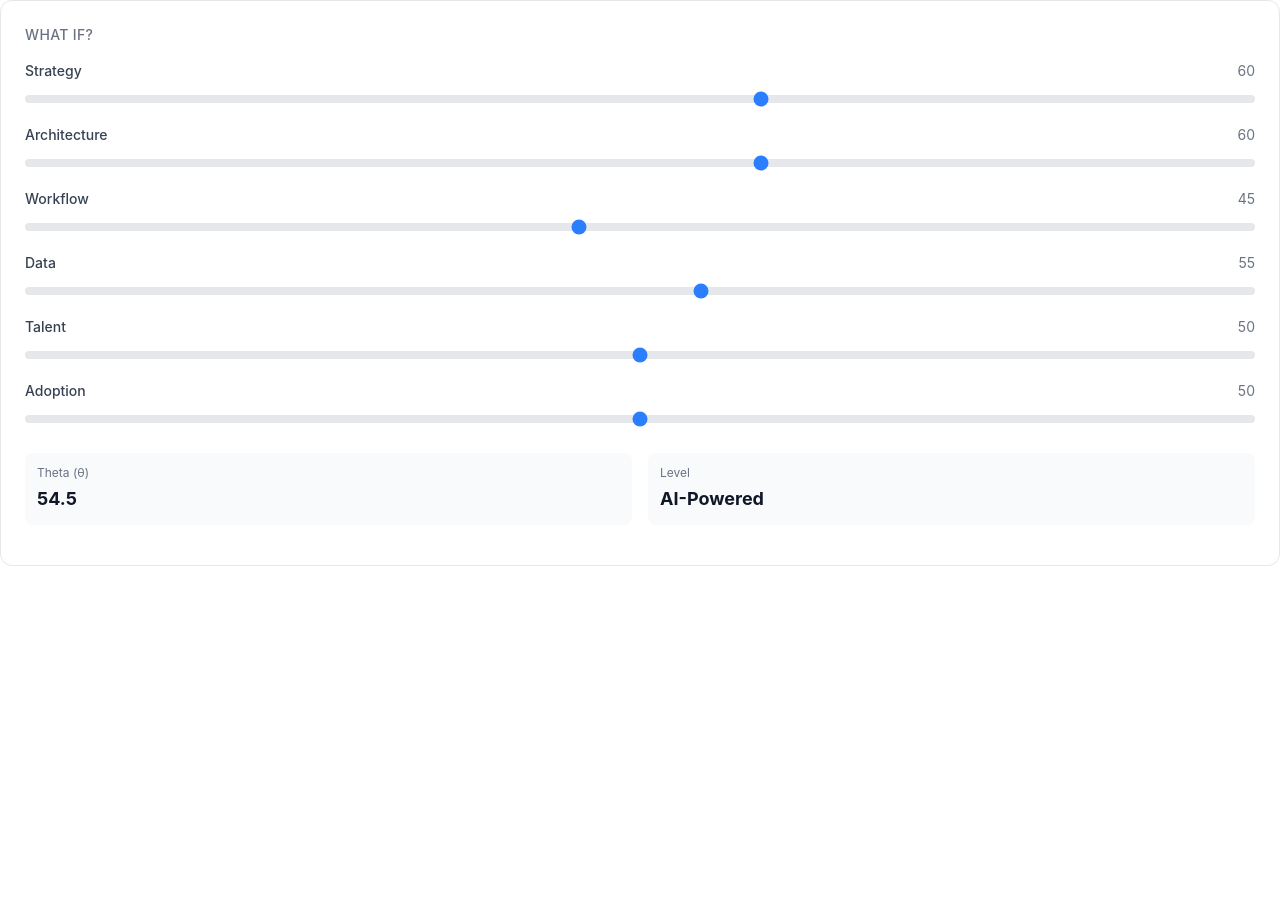
Test: WhatIfPanel › shows gating alert when workflow crosses above 50
Set the slider labelled "Workflow" to "55": (701, 227) [25,223,1255,231]
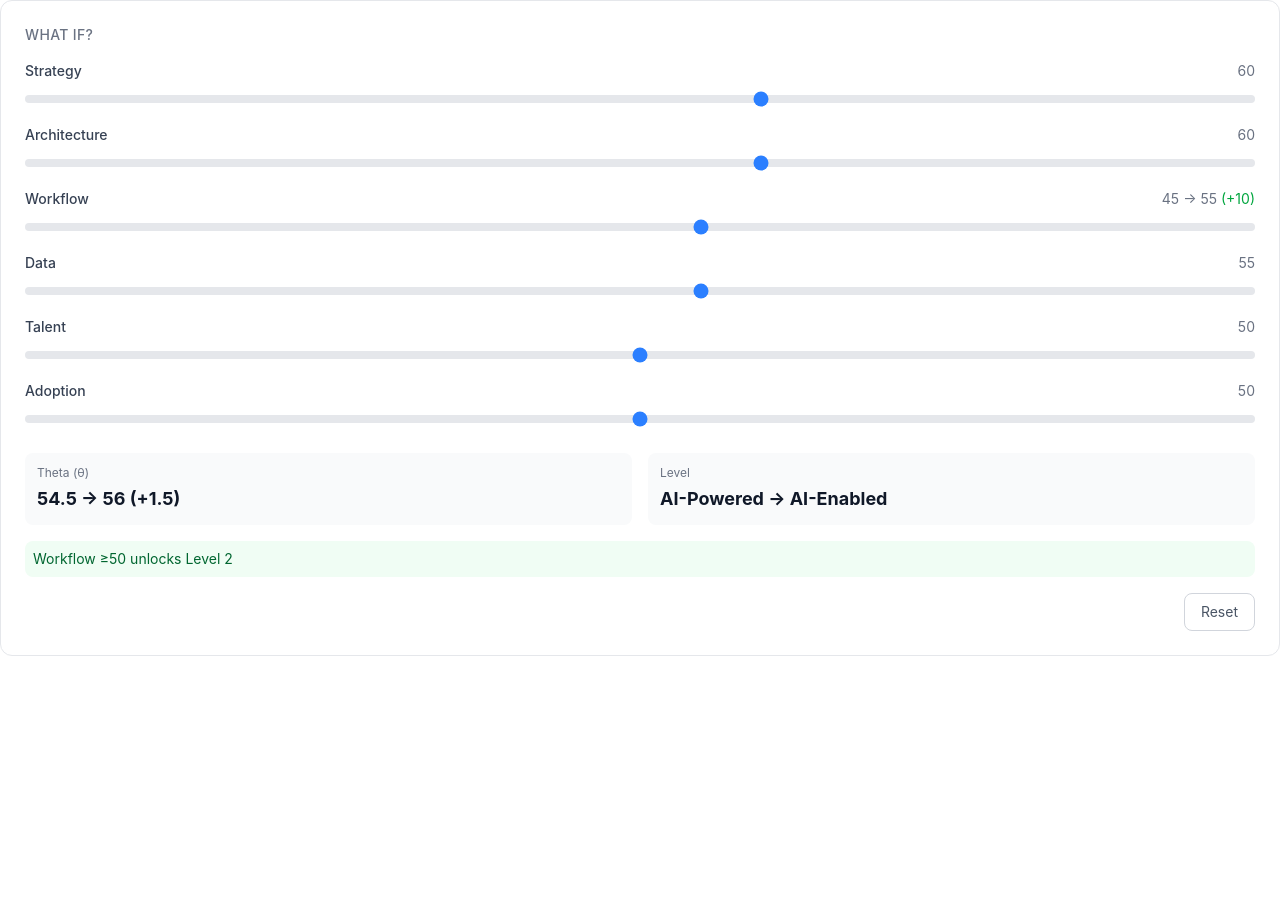
Result: the text "Workflow ≥50 unlocks Level 2" is shown at [25,541,1255,577]
